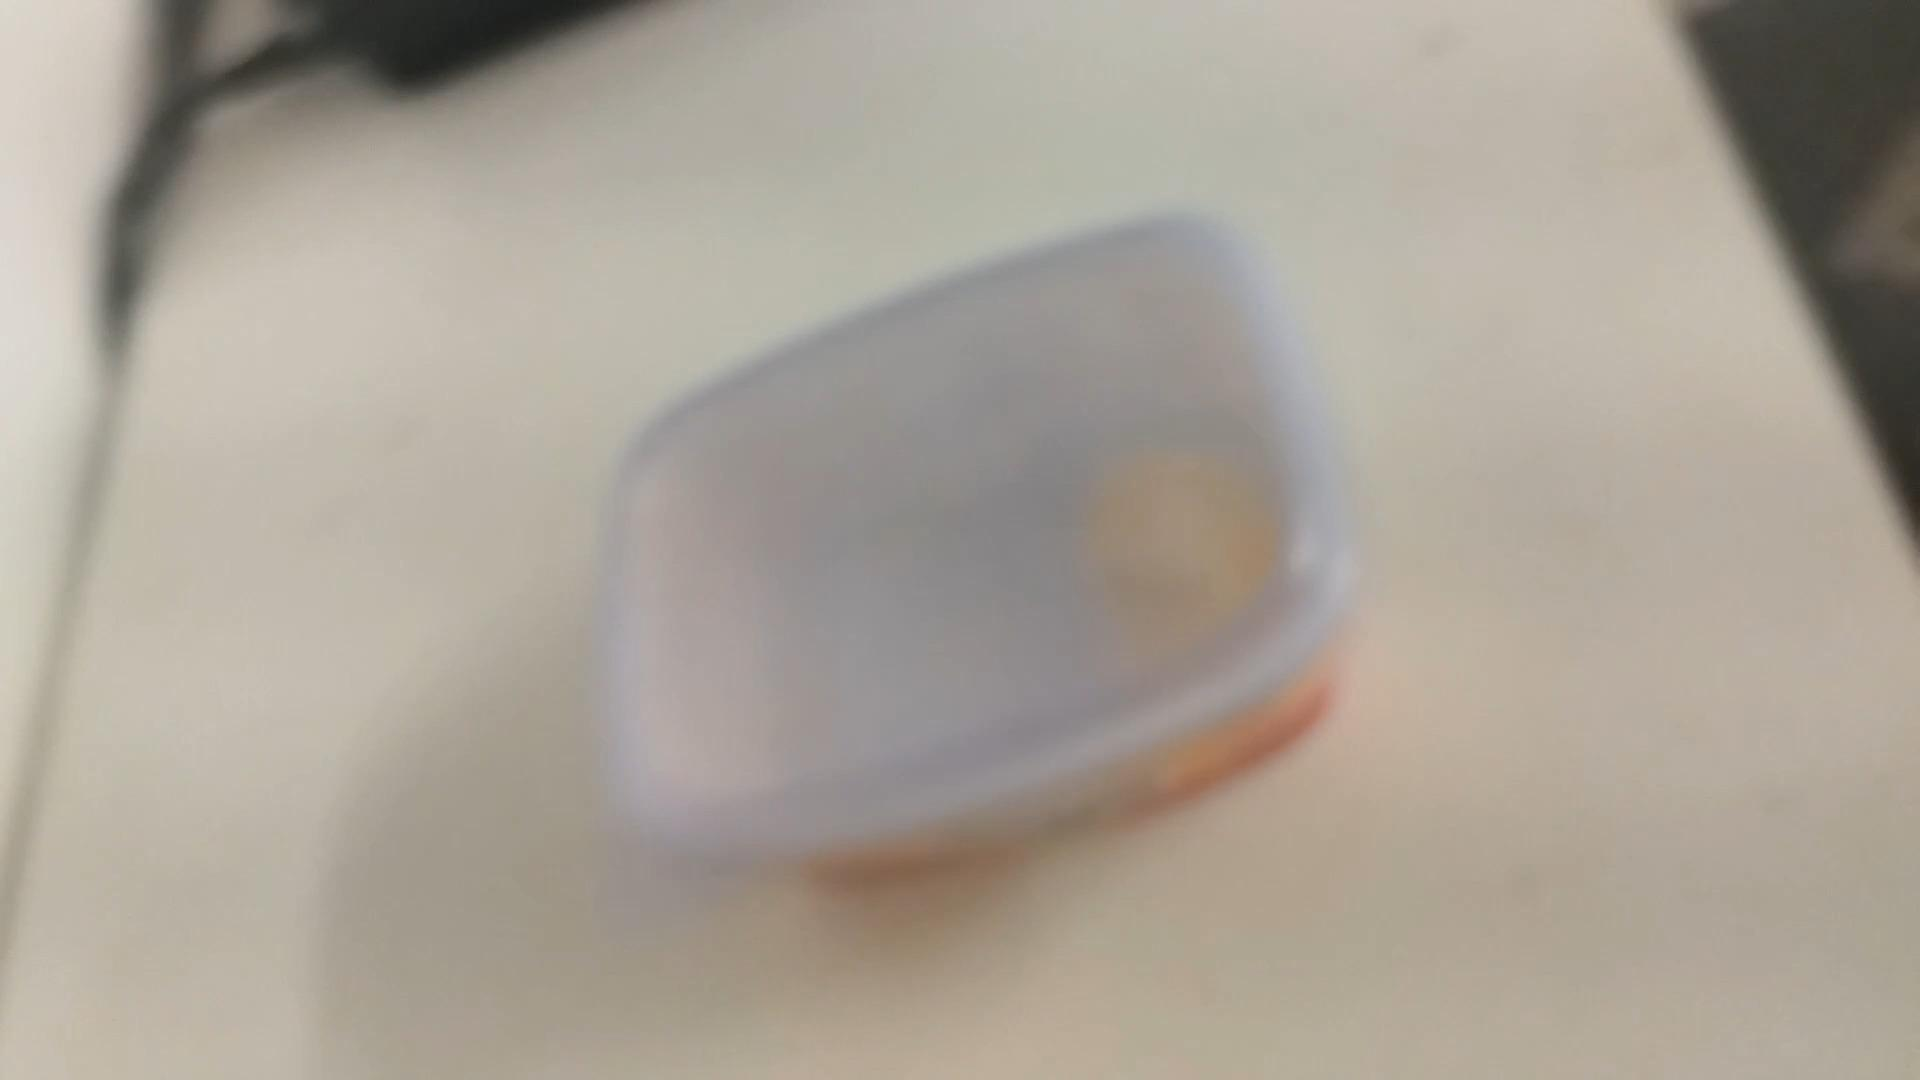butter: (588, 203, 1364, 881)
